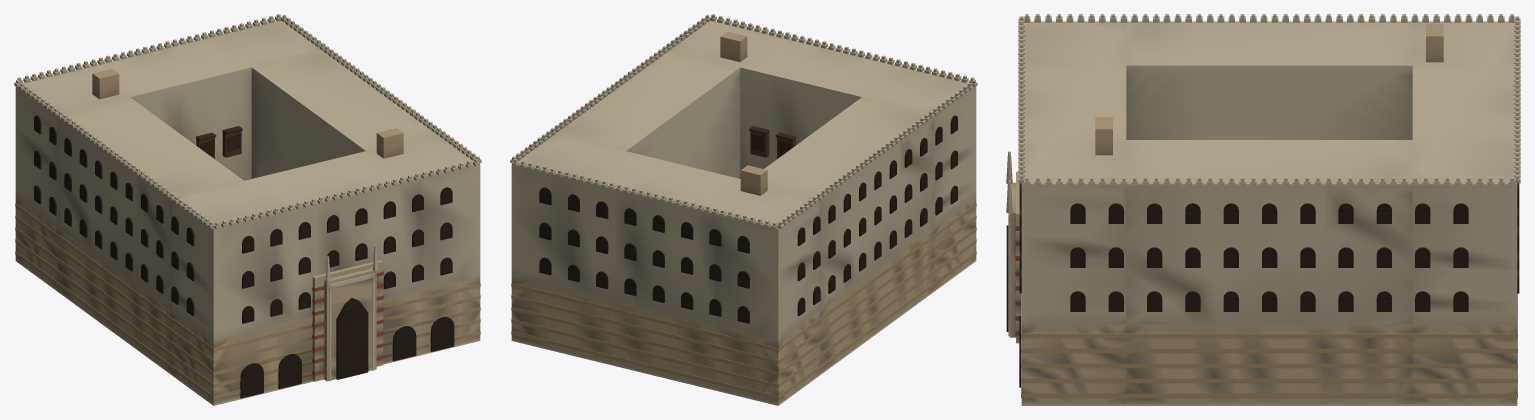
File: wikala-al-ghuri.glb
3 renders of one model, left to right at view 1: azimuth 30°, elevation 25°; view 2: azimuth 150°, elevation 25°; view 3: azimuth 270°, elevation 25°, orthographic. The views are drawn at different scales.
Visible parts, largest first — view 1: p2_apartments, p1_storerooms, p3_portal, p0_ground; view 2: p2_apartments, p1_storerooms, p3_portal, p0_ground; view 3: p2_apartments, p1_storerooms, p3_portal, p0_ground.
Part boxes in pixels (x1=…): p2_apartments: x1=14, y1=14, x2=481, y2=340; p1_storerooms: x1=15, y1=196, x2=480, y2=404; p3_portal: x1=92, y1=69, x2=403, y2=381; p0_ground: x1=15, y1=260, x2=480, y2=405; p2_apartments: x1=510, y1=14, x2=977, y2=340; p1_storerooms: x1=511, y1=196, x2=976, y2=404; p3_portal: x1=720, y1=31, x2=767, y2=195; p0_ground: x1=511, y1=260, x2=976, y2=405; p2_apartments: x1=1018, y1=14, x2=1520, y2=323; p1_storerooms: x1=1019, y1=293, x2=1517, y2=403; p3_portal: x1=1006, y1=24, x2=1443, y2=343; p0_ground: x1=1021, y1=404, x2=1517, y2=405.
Bounding box in the file's own units: 35.6 × 24.8 × 46.69.
